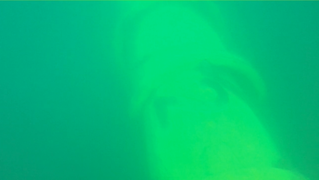2: (153, 77, 230, 130)
pipe: (111, 1, 309, 180)
